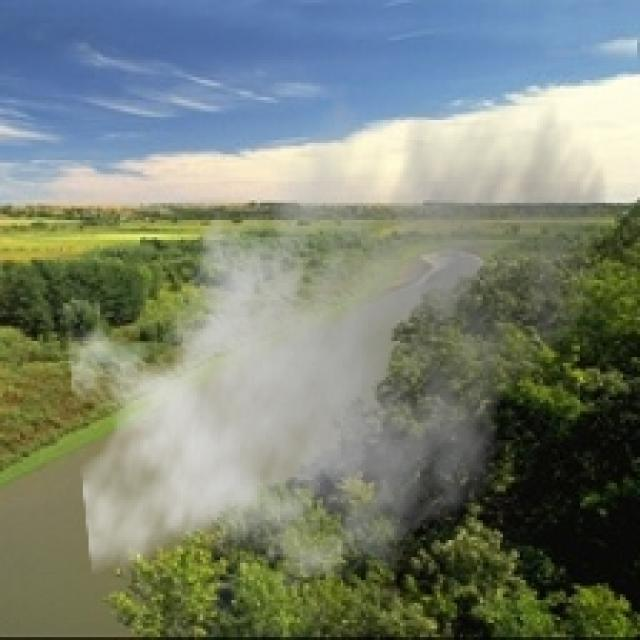Smoke: (66, 51, 614, 612)
